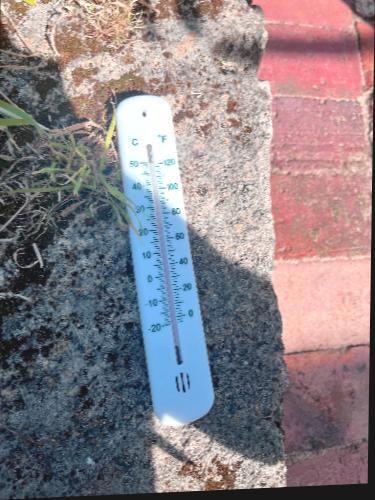thermo: (109, 94, 217, 426)
